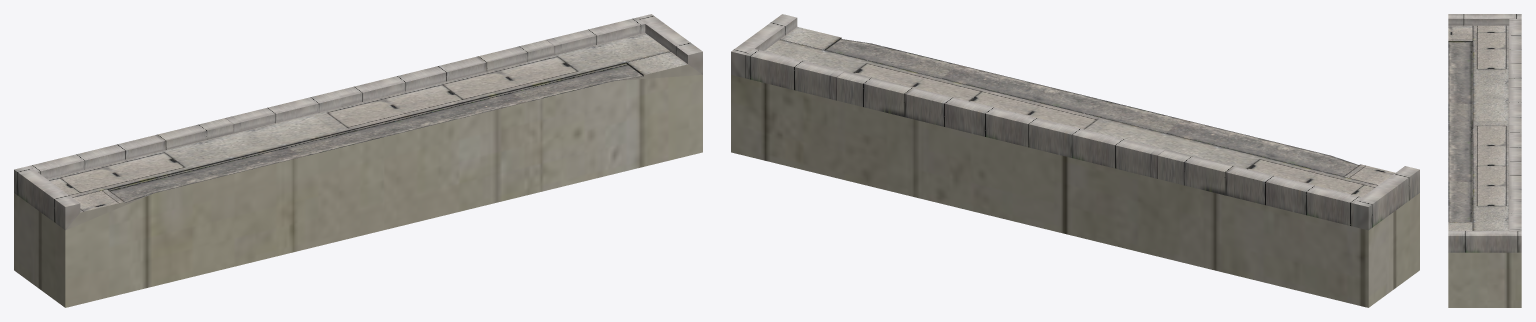
The model's file is road_c1_end.fbx.
3 views of the same model, side by side, from view 1: azimuth 30°, elevation 25°; view 2: azimuth 150°, elevation 25°; view 3: azimuth 270°, elevation 25° (orthographic). The views are drawn at different scales.
Parts seen in each view (by area): view 1: road_c1_end; view 2: road_c1_end; view 3: road_c1_end.
Part boxes in pixels (x1,y1,x2,y2): road_c1_end: [14, 14, 702, 307]; road_c1_end: [731, 14, 1419, 307]; road_c1_end: [1448, 14, 1521, 307].
Bounding box in the file's own units: 0.043 × 0.0065 × 0.006.
